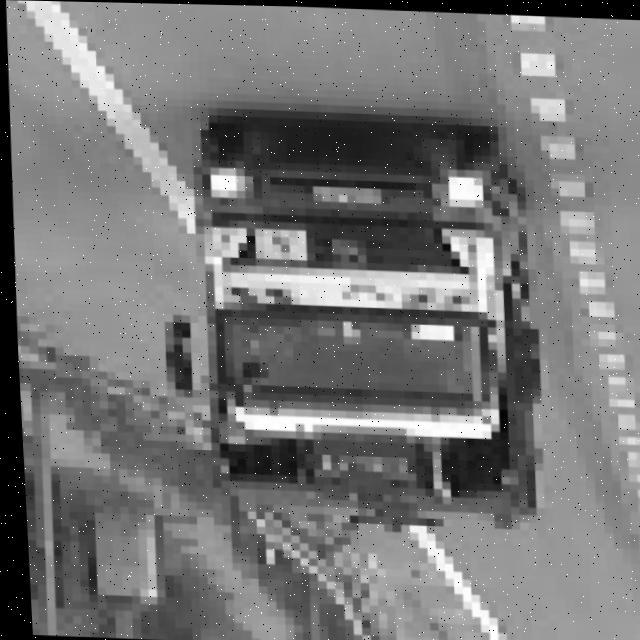truck: (159, 121, 557, 462)
